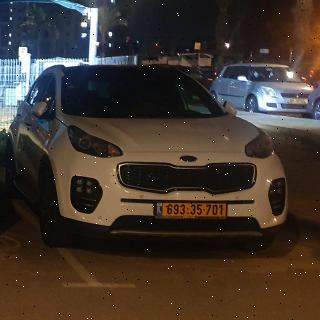LicensePlate: (163, 204, 225, 217)
